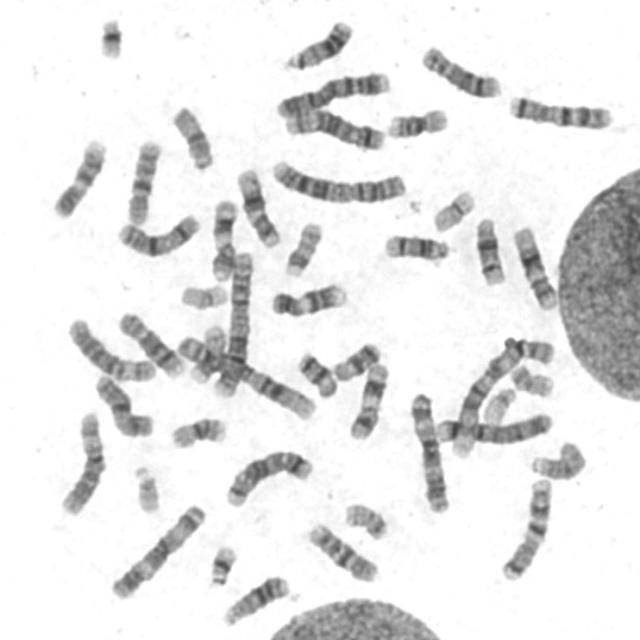A1: (444, 331, 557, 457), (172, 327, 319, 422)
A2: (265, 150, 410, 206), (210, 245, 256, 399)
A3: (104, 496, 209, 602), (404, 386, 452, 514)
B4: (269, 63, 393, 120), (429, 404, 556, 446)
B5: (220, 442, 316, 510), (278, 101, 388, 152)
C10: (302, 516, 382, 585), (120, 132, 164, 226)
C11: (342, 357, 392, 442), (204, 192, 240, 282)
C12: (508, 218, 561, 311), (231, 162, 283, 249)
C6: (63, 310, 158, 383), (52, 403, 108, 517)
C7: (495, 471, 556, 582), (503, 86, 616, 132)
C8: (112, 305, 187, 379), (415, 39, 504, 100)
C9: (46, 132, 110, 220), (265, 275, 350, 319)
D13: (216, 568, 292, 629), (278, 13, 356, 71)
D14: (469, 209, 510, 287), (378, 227, 453, 264)
D15: (166, 99, 216, 172), (525, 434, 589, 482)
E16: (381, 101, 452, 139), (165, 410, 229, 451)
E17: (181, 318, 233, 386), (279, 216, 325, 278)
E18: (291, 345, 340, 400), (327, 335, 384, 382)
F19: (426, 182, 478, 234), (174, 277, 230, 311)
F20: (338, 495, 391, 542), (504, 358, 556, 398)
G21: (202, 538, 240, 588), (91, 10, 126, 61)
G22: (127, 458, 163, 515), (477, 379, 520, 425)
X: (89, 368, 157, 440), (111, 207, 203, 259)
